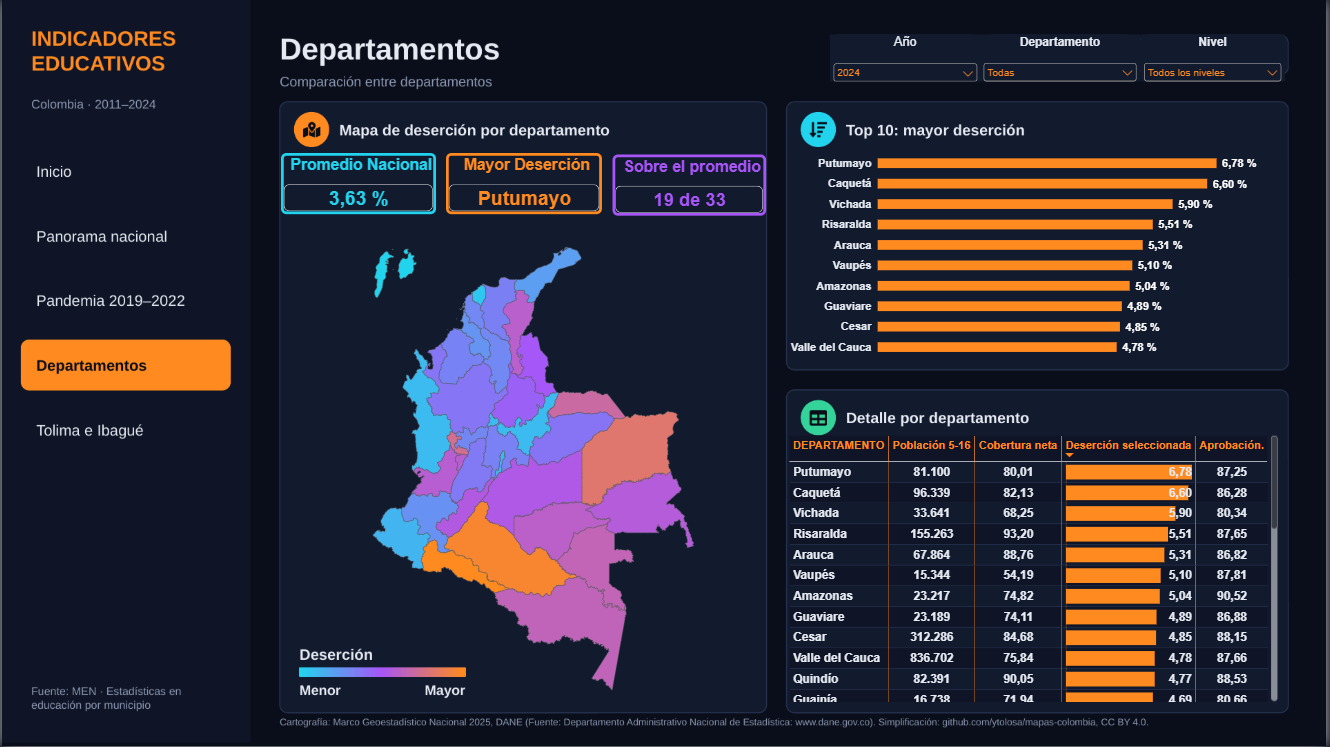

Layout of this report page (visuals, bound fields, positions):
{"tool":"powerbi","page":{"name":"Departamentos","canvas":[1920,1080],"ordinal":3},"visuals":[{"type":"slicer","title":"Año","fields":{"Values":["Datos.AÑO"]},"box":[1200,50,218.2,68.2],"z":0},{"type":"slicer","title":"Nivel","fields":{"Values":["Niveles.Nivel"]},"box":[1650,50,209.1,68.2],"z":1000},{"type":"slicer","title":"Departamento","fields":{"Values":["Datos.DEPARTAMENTO"]},"box":[1418.2,50,231.8,68.2],"z":2000},{"type":"actionButton","box":[45.7,237,150,39.1],"z":3000},{"type":"actionButton","box":[32.5,195,307.5,90],"z":4000},{"type":"actionButton","box":[26.1,308.7,306.5,78.3],"z":5000},{"type":"actionButton","box":[26.1,387,306.5,93.5],"z":6000},{"type":"actionButton","box":[26.1,578.3,306.5,97.8],"z":7000},{"type":"clusteredBarChart","fields":{"Category":["Datos.DEPARTAMENTO"],"Y":["Datos.Deserción %"]},"box":[1126.6,195.3,738.2,343],"z":8000},{"type":"tableEx","fields":{"Values":["Datos.DEPARTAMENTO","Datos.Población 5-16","Datos.Cobertura neta","Datos.Deserción seleccionada","Datos.Medida_Aprobación"]},"box":[1124,618.3,740.5,414.6],"z":9000},{"type":"shapeMap","fields":{"Category":["Datos.CÓDIGO_DEPARTAMENTO"],"Value":["Datos.Deserción %"]},"box":[484.1,309.1,570.4,742.9],"z":10000},{"type":"cardVisual","title":"Mayor Deserción","fields":{"Data":["Datos.Departamento mayor deserción"]},"box":[642.9,222.1,226.3,88.8],"z":11000},{"type":"cardVisual","title":"Promedio Nacional","fields":{"Data":["Datos.Deserción nacional %"]},"box":[404.3,222.6,224.9,88.6],"z":12000},{"type":"cardVisual","title":"Sobre el promedio","fields":{"Data":["Datos.Departamentos sobre promedio"]},"box":[884.3,222.9,222.9,88.7],"z":13000}]}

Visuals, with their boxes in screenshot pixels (x1, y1, x2, y2), scaled from the page's 1920x1080 canvas onto the 1330x747 screenshot:
"Año" slicer: BBox(831, 35, 982, 82)
"Nivel" slicer: BBox(1143, 35, 1288, 82)
"Departamento" slicer: BBox(982, 35, 1143, 82)
actionButton: BBox(32, 164, 136, 191)
actionButton: BBox(23, 135, 236, 197)
actionButton: BBox(18, 214, 230, 268)
actionButton: BBox(18, 268, 230, 332)
actionButton: BBox(18, 400, 230, 468)
clusteredBarChart - Datos.DEPARTAMENTO x Datos.Deserción %: BBox(780, 135, 1292, 372)
tableEx - Datos.DEPARTAMENTO x Datos.Población 5-16: BBox(779, 428, 1292, 714)
shapeMap - Datos.CÓDIGO_DEPARTAMENTO x Datos.Deserción %: BBox(335, 214, 730, 728)
"Mayor Deserción" cardVisual: BBox(445, 154, 602, 215)
"Promedio Nacional" cardVisual: BBox(280, 154, 436, 215)
"Sobre el promedio" cardVisual: BBox(613, 154, 767, 216)
